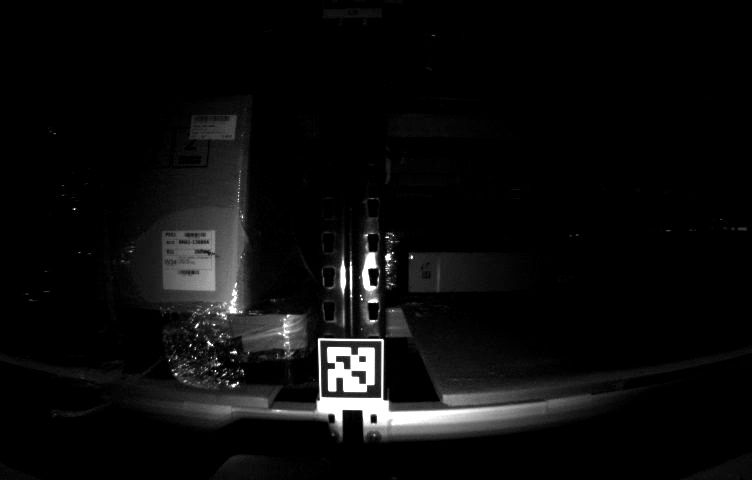True Barcode: (159, 227, 219, 293)
